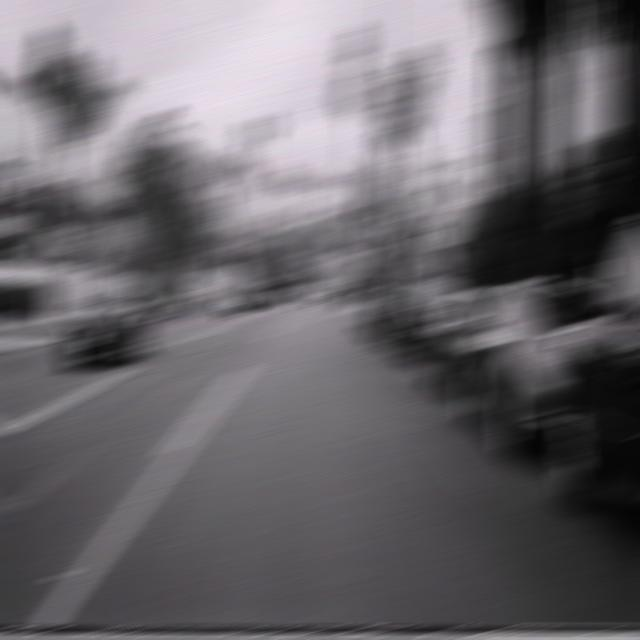pedestrianCrossing: (402, 225, 428, 252)
